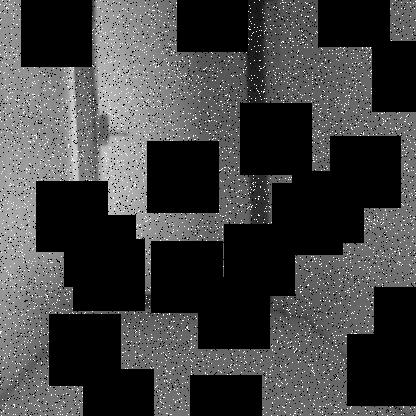Porte: (71, 1, 274, 310)
